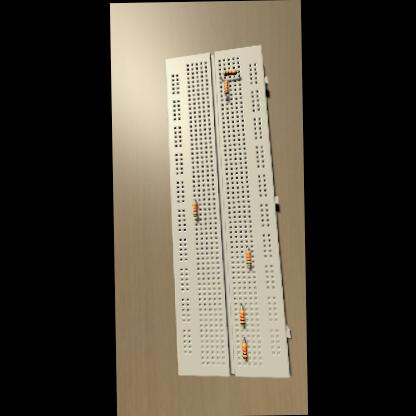breadboard: (163, 43, 290, 378)
resistor: (241, 341, 246, 358), (240, 308, 245, 324), (223, 68, 236, 74), (245, 249, 250, 264), (192, 201, 196, 215), (224, 80, 228, 94)
wire: (219, 72, 222, 78), (236, 70, 238, 75), (245, 244, 247, 248), (242, 334, 243, 341), (194, 216, 196, 219), (240, 302, 241, 308), (247, 264, 249, 266), (242, 324, 243, 326), (244, 358, 245, 360), (194, 199, 194, 201)
